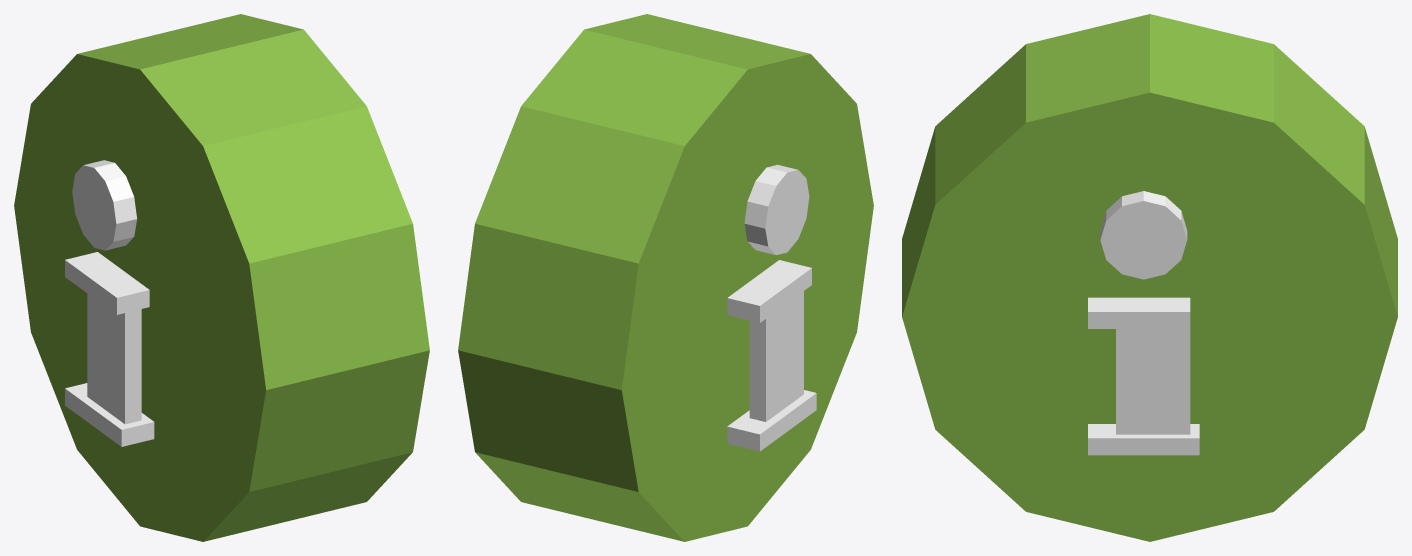
Rendered from info.glb.
3 renders of one model, left to right at view 1: azimuth 30°, elevation 25°; view 2: azimuth 150°, elevation 25°; view 3: azimuth 270°, elevation 25°, orthographic.
Visible parts, largest first — view 1: group1236340163, group1333965752; view 2: group1236340163, group1333965752; view 3: group1236340163, group1771391850.
Boxes of the visible parts, x1,y1,x2,y2 form: group1236340163: (14, 14, 429, 541); group1333965752: (65, 160, 154, 446); group1236340163: (458, 14, 873, 541); group1333965752: (727, 164, 816, 451); group1236340163: (902, 14, 1397, 541); group1771391850: (1088, 191, 1199, 455).
Bounding box in the file's own units: 0.2175 × 0.4 × 0.4.
